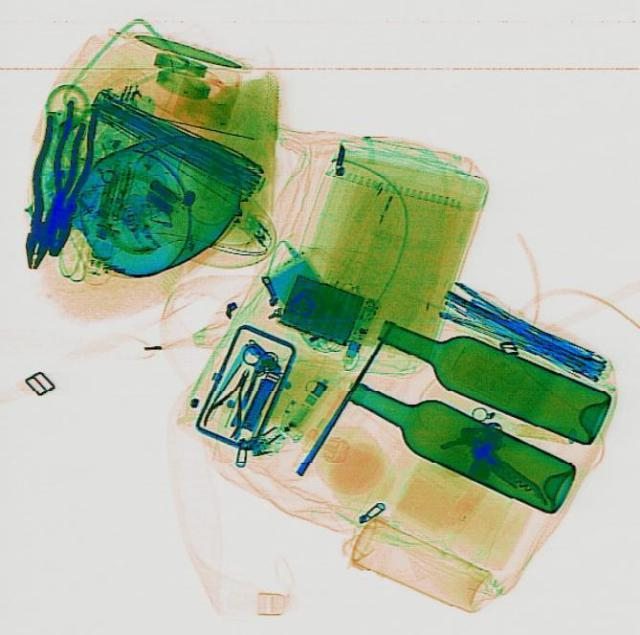Pliers: (7, 113, 89, 269), (31, 95, 105, 256), (196, 362, 264, 438)
Scissors: (219, 340, 277, 409)
